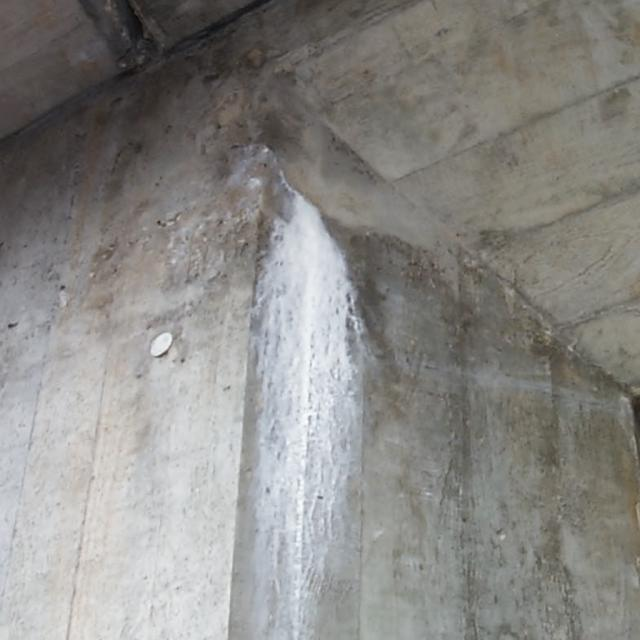D01: (246, 178, 369, 637)
